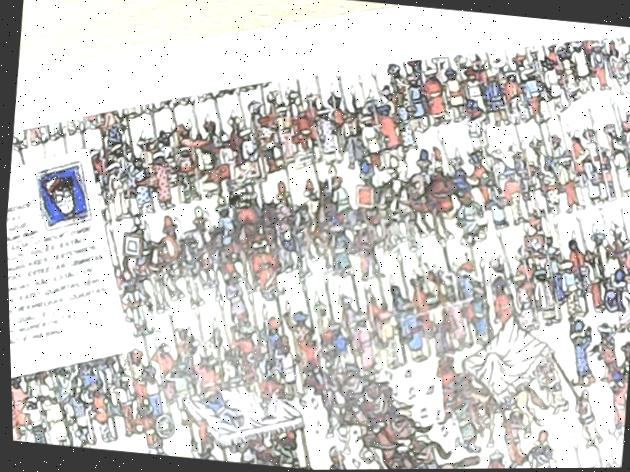waldo: (34, 168, 89, 223), (226, 191, 249, 210)
